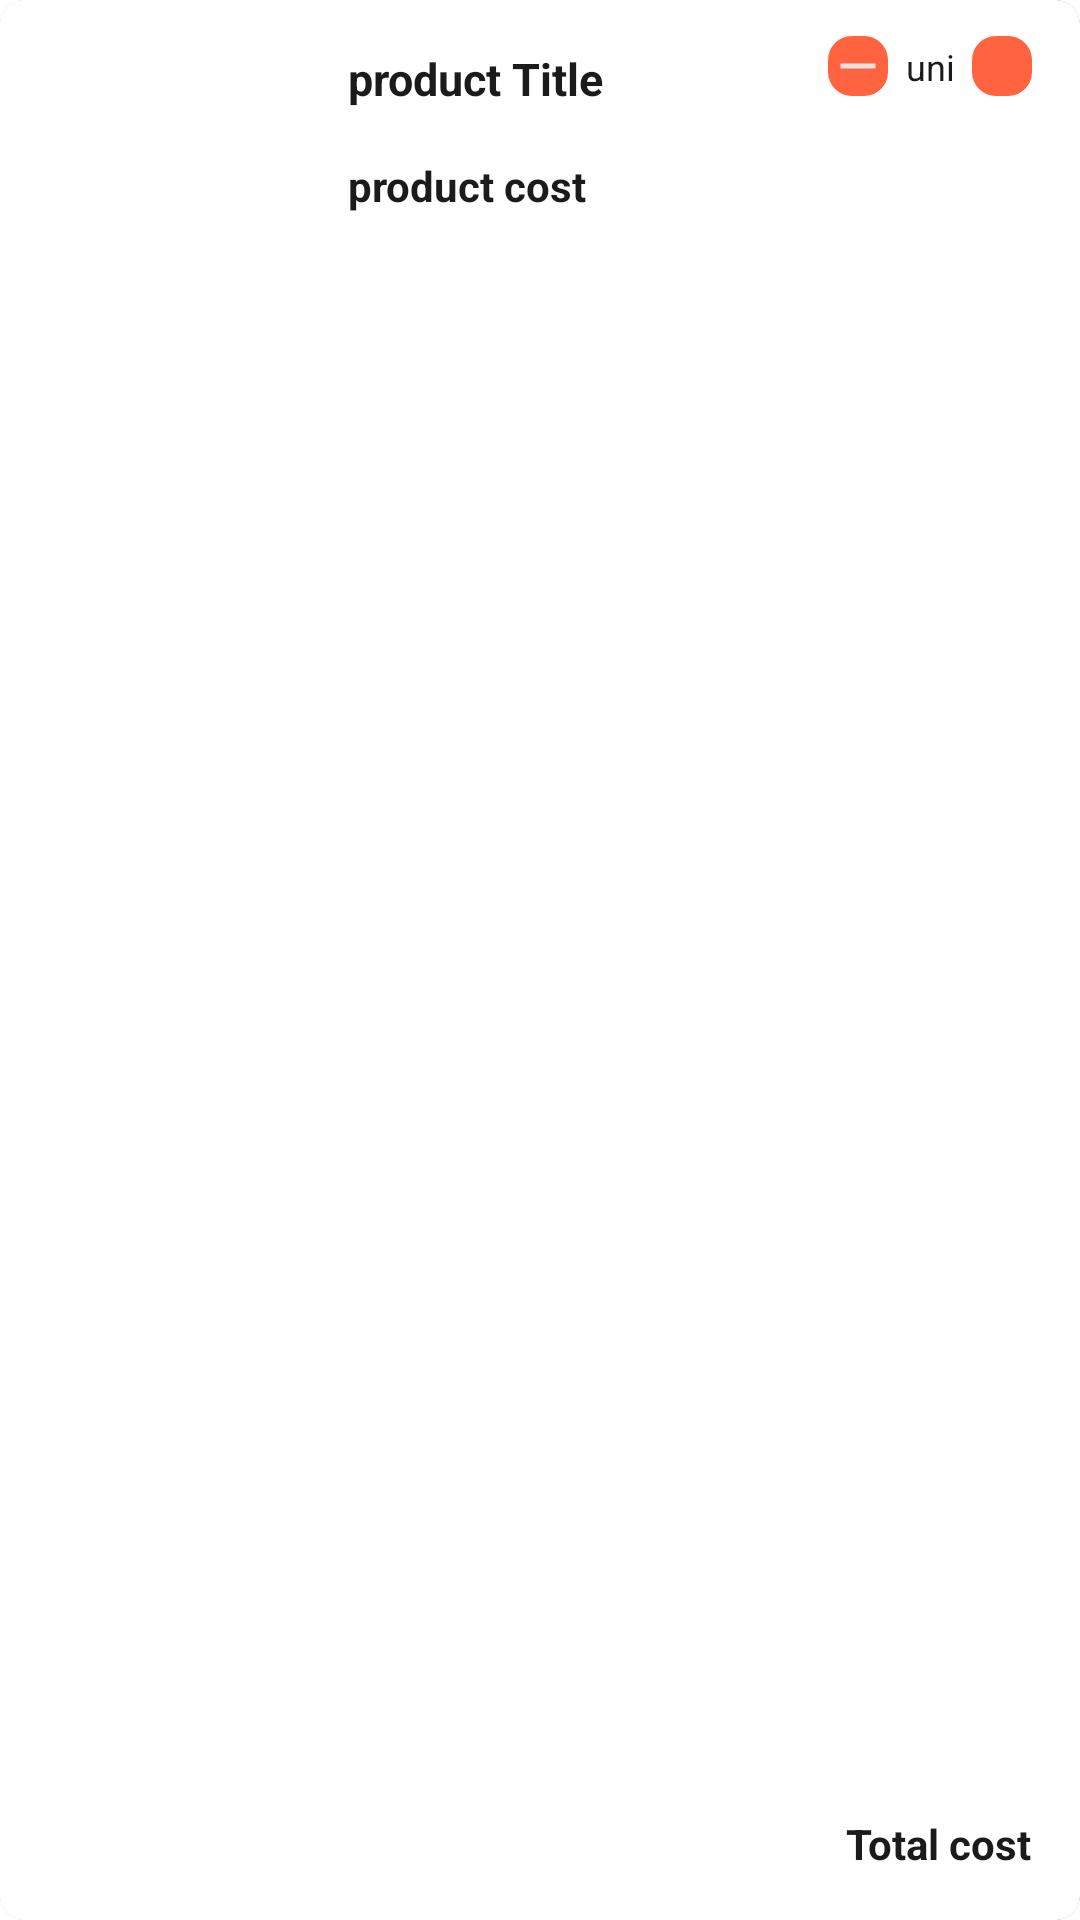

Icon bounding boxes for this 1080px×1920px phone screenshot, format (x1, y1, x2, y2):
remove: (828, 36, 888, 96)
